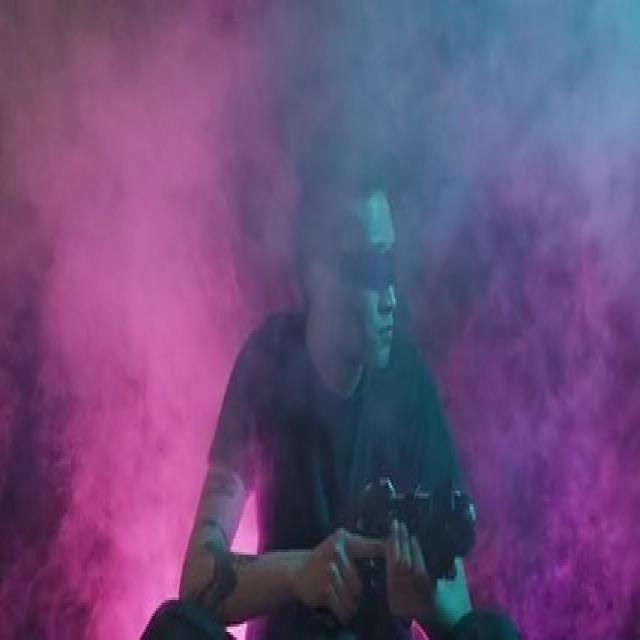Gun_Holder: (324, 462, 492, 634)
Person: (111, 4, 520, 640)
